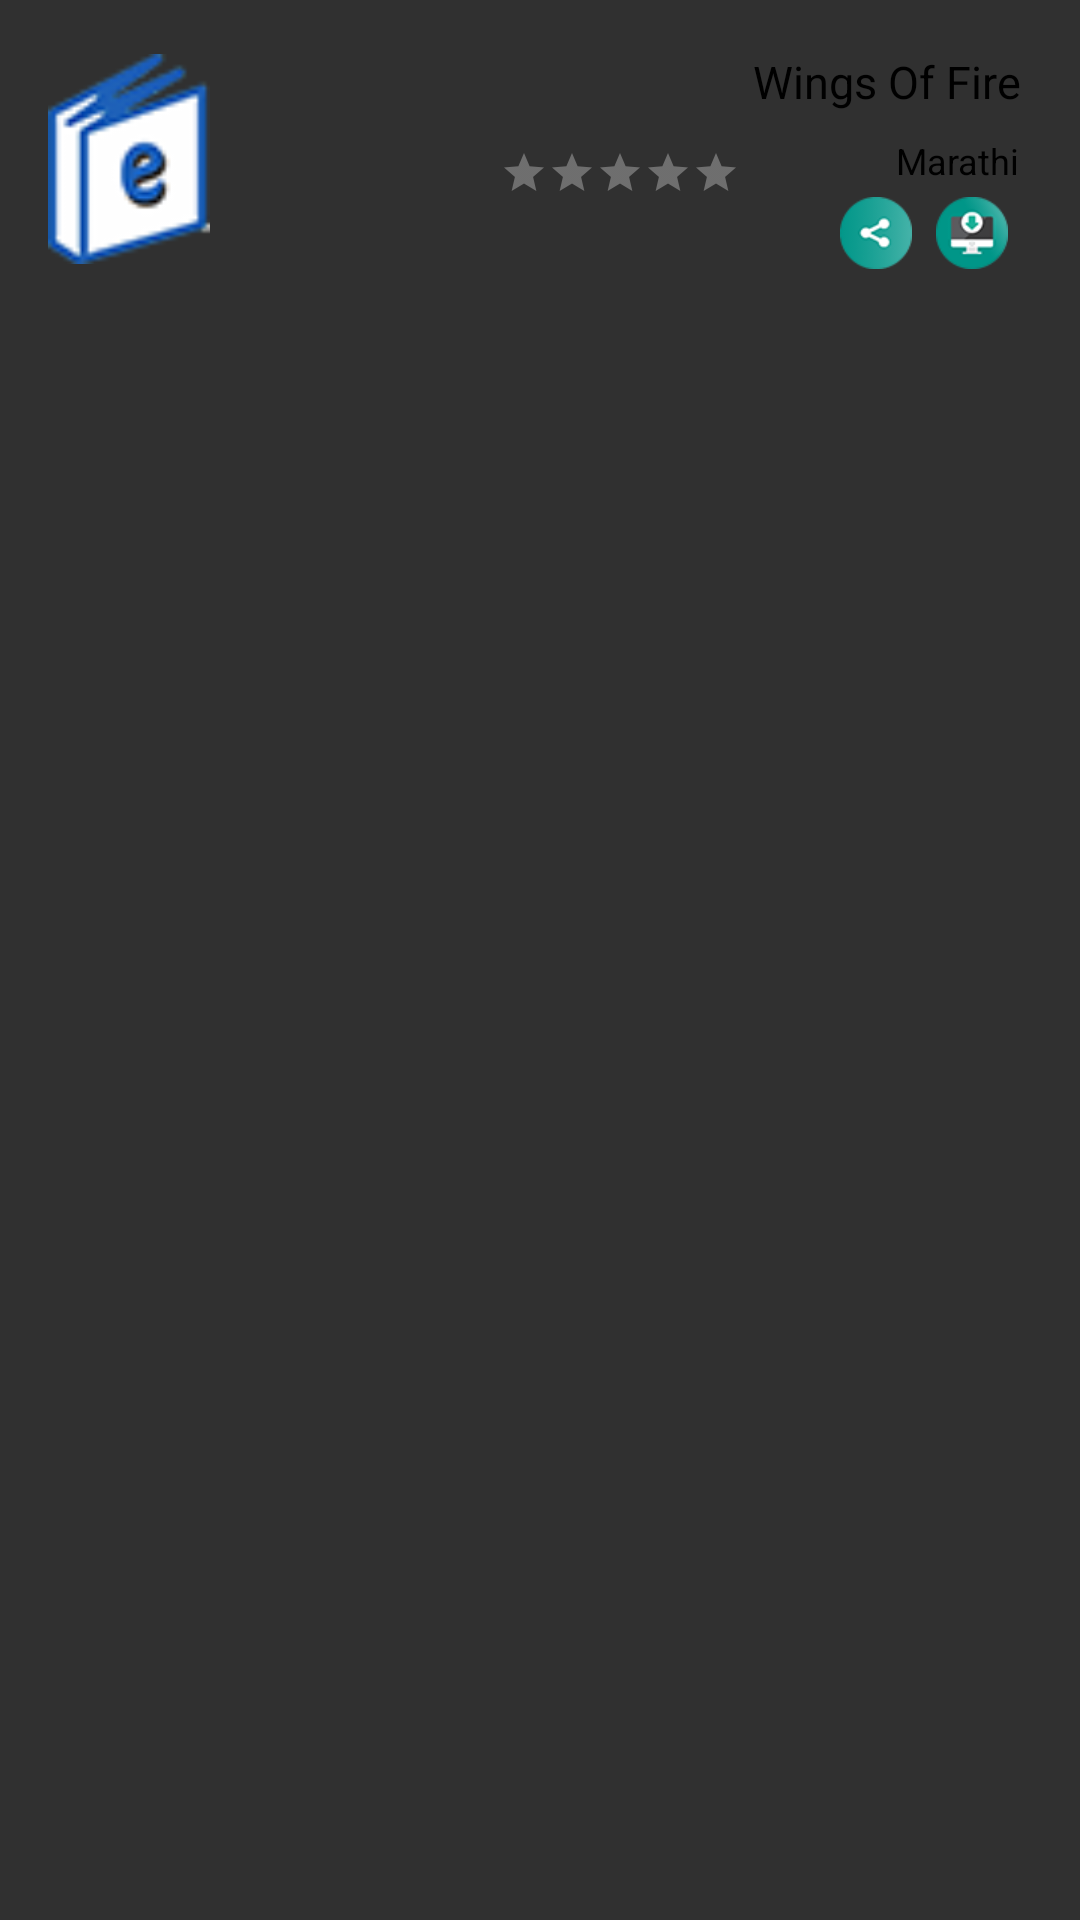

Icon click points for this 1080×1920 phone screenshot, format (x=x, y=y):
down: (x=972, y=233)
share: (x=876, y=233)
